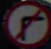Don't turn right: (9, 4, 45, 41)
